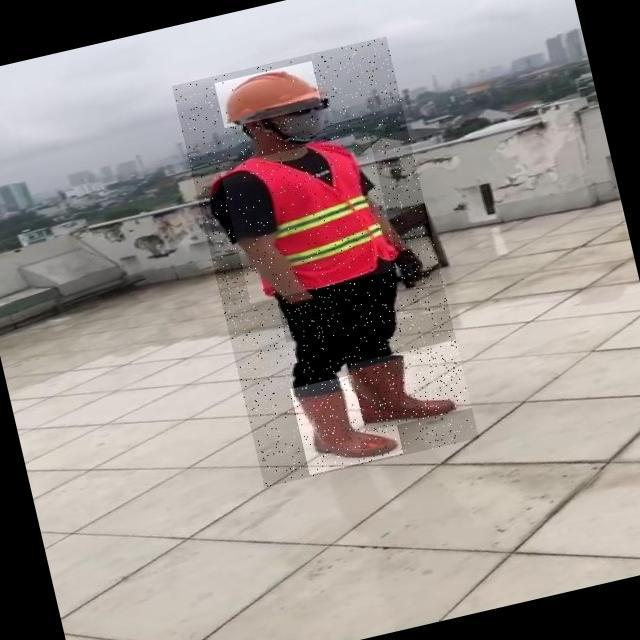Gloves: (278, 292, 343, 342), (388, 244, 427, 292)
Helmet: (214, 61, 322, 128)
Human: (172, 36, 479, 487)
Safety Boot: (290, 367, 403, 474), (350, 339, 473, 432)
Safety Vest: (219, 132, 400, 304)
